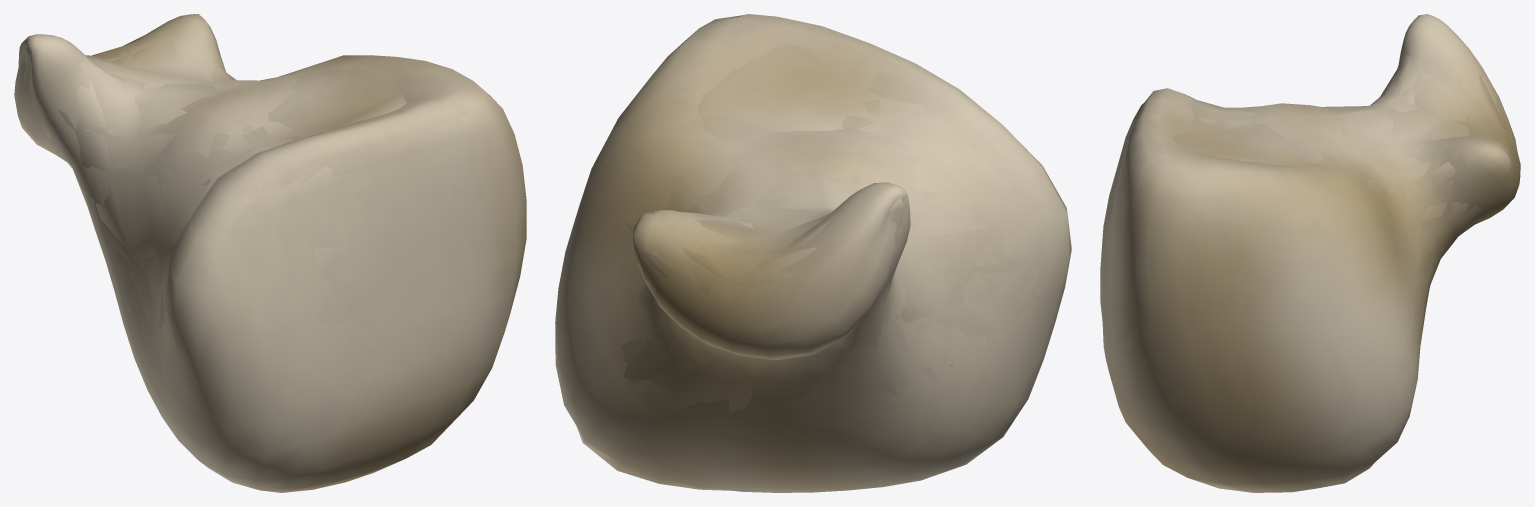
File: L tarsi centrale.fbx
The picture shows the model from 3 angles, left to right: view 1: azimuth 30°, elevation 25°; view 2: azimuth 150°, elevation 25°; view 3: azimuth 270°, elevation 25°; orthographic projection. The views are drawn at different scales.
Visible parts, largest first — view 1: L tarsi centrale high, L tarsi centrale low, L tarsi centrale; view 2: L tarsi centrale high, L tarsi centrale low, L tarsi centrale; view 3: L tarsi centrale high, L tarsi centrale low, L tarsi centrale.
Boxes of the visible parts, left/top/right/bottom form: L tarsi centrale high: left=14, top=14, right=526, bottom=492; L tarsi centrale low: left=21, top=36, right=406, bottom=333; L tarsi centrale: left=23, top=26, right=508, bottom=366; L tarsi centrale high: left=555, top=14, right=1071, bottom=492; L tarsi centrale low: left=623, top=45, right=1039, bottom=380; L tarsi centrale: left=621, top=40, right=1039, bottom=412; L tarsi centrale high: left=1100, top=14, right=1520, bottom=492; L tarsi centrale low: left=1114, top=65, right=1507, bottom=345; L tarsi centrale: left=1105, top=55, right=1515, bottom=339.
Size of the model in its own units: 3.07 by 3.14 by 3.29.
